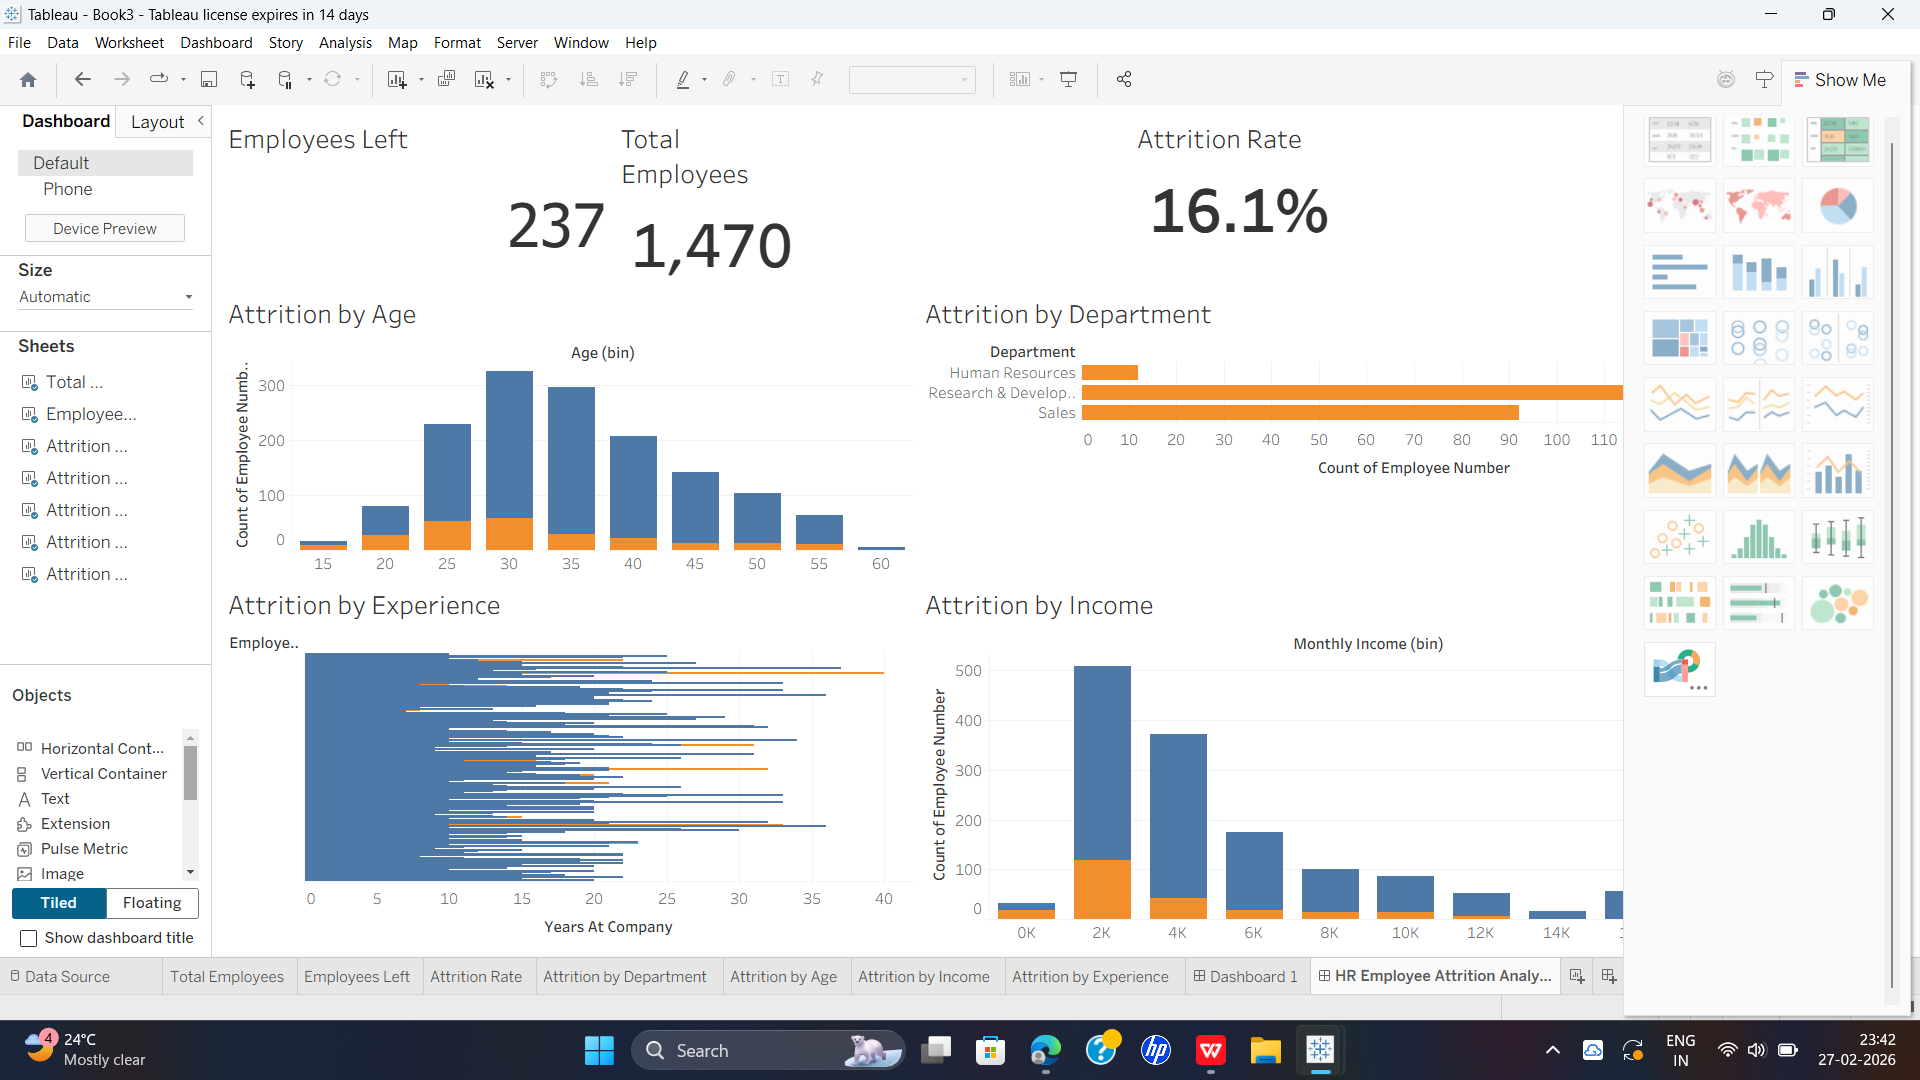

What the dashboard file says about the page in this screenshot:
{"tool":"tableau","page":{"name":"HR Employee Attrition Analysis Dashboard","canvas":[1000,1000],"units":"permille","ordinal":0},"visuals":[{"type":"worksheet","title":"Employees Left","mark":"Automatic","box":[4.7,9.4,230.2,205.6]},{"type":"worksheet","title":"Total Employees","mark":"Automatic","box":[234.9,9.4,302.3,205.6]},{"type":"worksheet","title":"Attrition Rate","mark":"Automatic","box":[537.2,9.4,364.4,205.6]},{"type":"filter","title":"Attrition by Department","param":"[federated.1ameggb0mtjlcr1doij9o1h4r740].[none:Gender:nk]","box":[901.6,9.4,93.7,123.4]},{"type":"filter","title":"Attrition by Department","param":"[federated.1ameggb0mtjlcr1doij9o1h4r740].[none:Department:nk]","box":[901.6,132.8,93.7,150.4]},{"type":"worksheet","title":"Attrition by Age","mark":"Automatic","rows":["EmployeeNumber"],"cols":["Age (bin)"],"box":[4.7,215,408.3,341.9]},{"type":"worksheet","title":"Attrition by Department","mark":"Automatic","rows":["Department"],"cols":["EmployeeNumber"],"box":[413,215,488.6,341.9]},{"type":"legend","title":"Attrition by Department","param":"[federated.1ameggb0mtjlcr1doij9o1h4r740].[none:Attrition:nk]","box":[901.6,283.2,93.7,59.9]},{"type":"worksheet","title":"Attrition by Experience","mark":"Automatic","rows":["EmployeeNumber"],"cols":["YearsAtCompany"],"box":[4.7,557,408.3,433.6]},{"type":"worksheet","title":"Attrition by Income","mark":"Automatic","rows":["EmployeeNumber"],"cols":["Monthly Income (bin)"],"box":[413,557,488.6,433.6]}]}

Visuals, with their boxes on the dashboard's canvas, which has no fixed pixel size, in thousandths of its width and height (x1, y1, x2, y2). These are canvas units, not pixel positions in the 1920x1080 screenshot, which may show the page scaled, cropped or inside an application window:
"Employees Left" worksheet: bbox=(5, 9, 235, 215)
"Total Employees" worksheet: bbox=(235, 9, 537, 215)
"Attrition Rate" worksheet: bbox=(537, 9, 902, 215)
"Attrition by Department" filter: bbox=(902, 9, 995, 133)
"Attrition by Department" filter: bbox=(902, 133, 995, 283)
"Attrition by Age" worksheet: bbox=(5, 215, 413, 557)
"Attrition by Department" worksheet: bbox=(413, 215, 902, 557)
"Attrition by Department" legend: bbox=(902, 283, 995, 343)
"Attrition by Experience" worksheet: bbox=(5, 557, 413, 991)
"Attrition by Income" worksheet: bbox=(413, 557, 902, 991)
